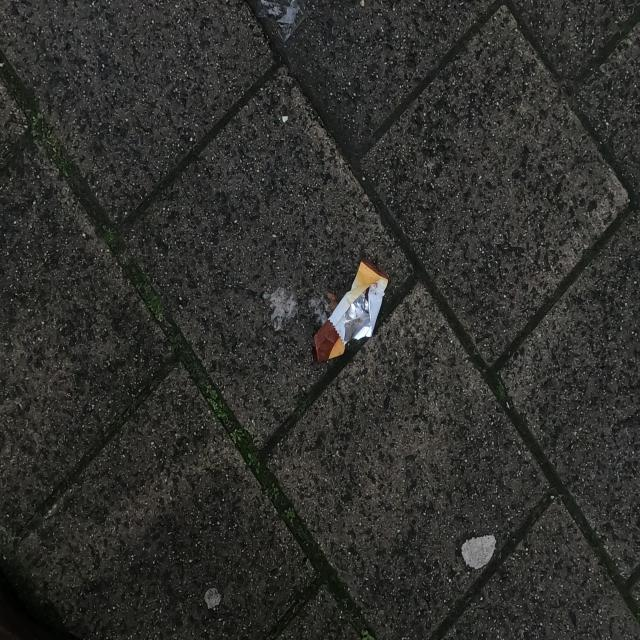Plastic: (310, 257, 389, 365)
